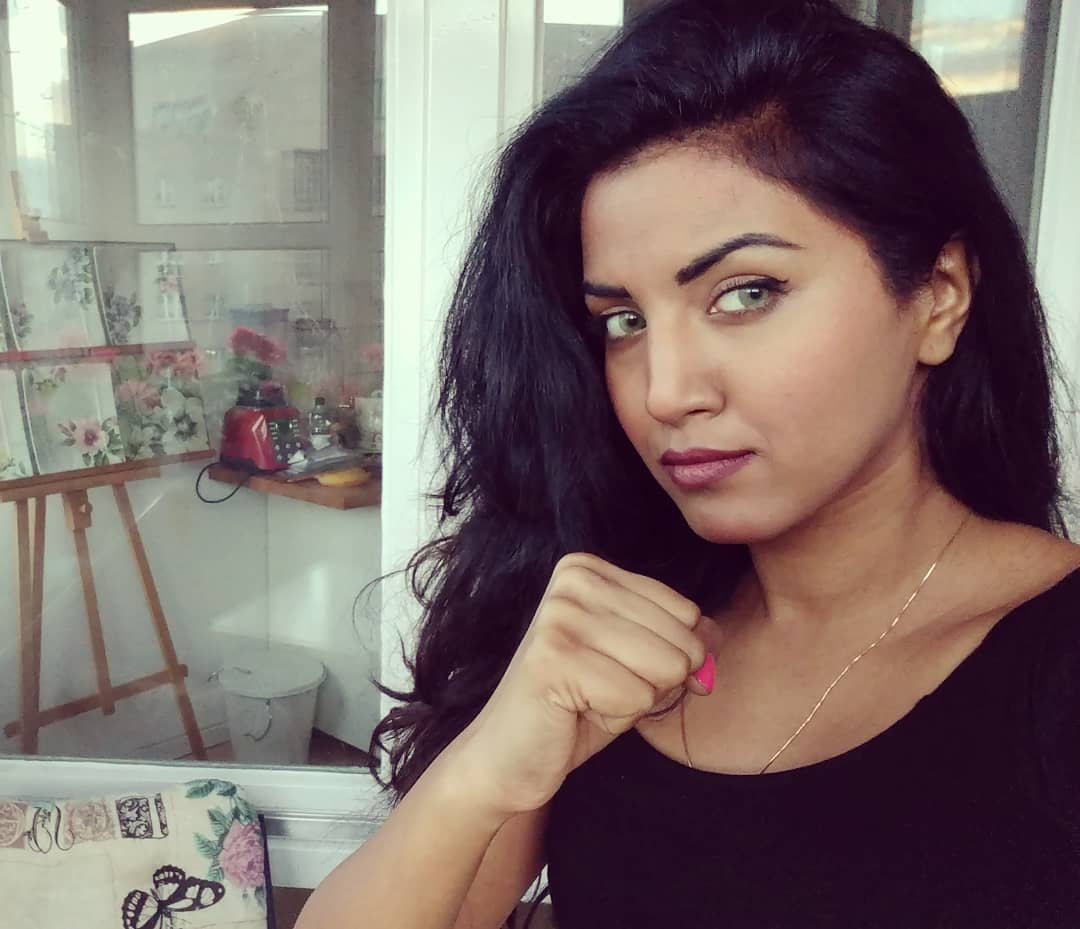hand: (470, 560, 704, 770)
